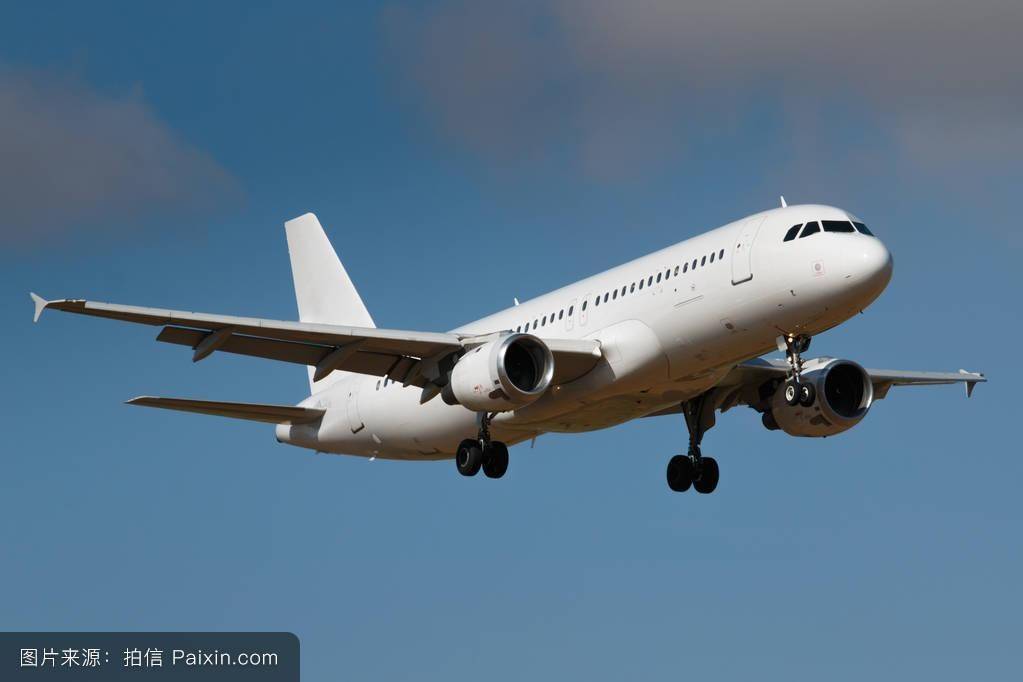airplane: (26, 199, 1009, 494)
